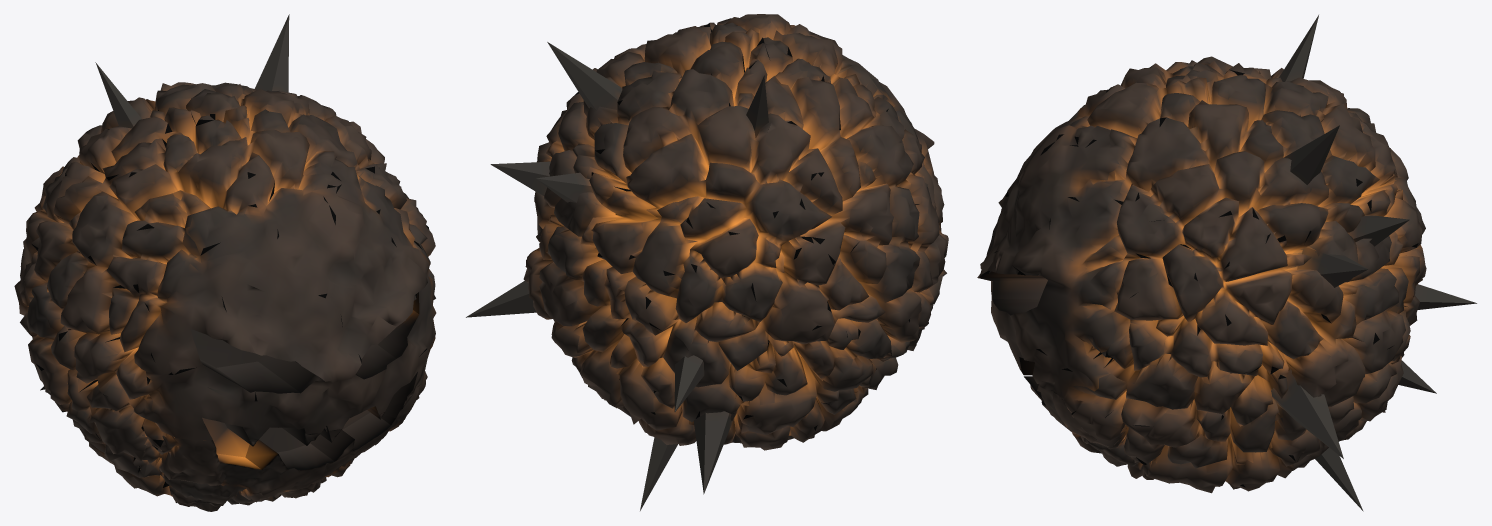
The model's file is Ember.fbx.
3 renders of one model, left to right at view 1: azimuth 30°, elevation 25°; view 2: azimuth 150°, elevation 25°; view 3: azimuth 270°, elevation 25°, orthographic. The views are drawn at different scales.
Visible parts, largest first — view 1: Body, Jaw; view 2: Body; view 3: Body, Jaw.
Part boxes in pixels (x1,y1,x2,y2): Body: (14, 14, 436, 506); Jaw: (133, 384, 422, 511); Body: (466, 14, 948, 510); Body: (977, 15, 1476, 511); Jaw: (1018, 366, 1151, 479).
Bounding box in the file's own units: 1.07 × 1.16 × 1.17.
Materials: 2 (2 with a texture image).
